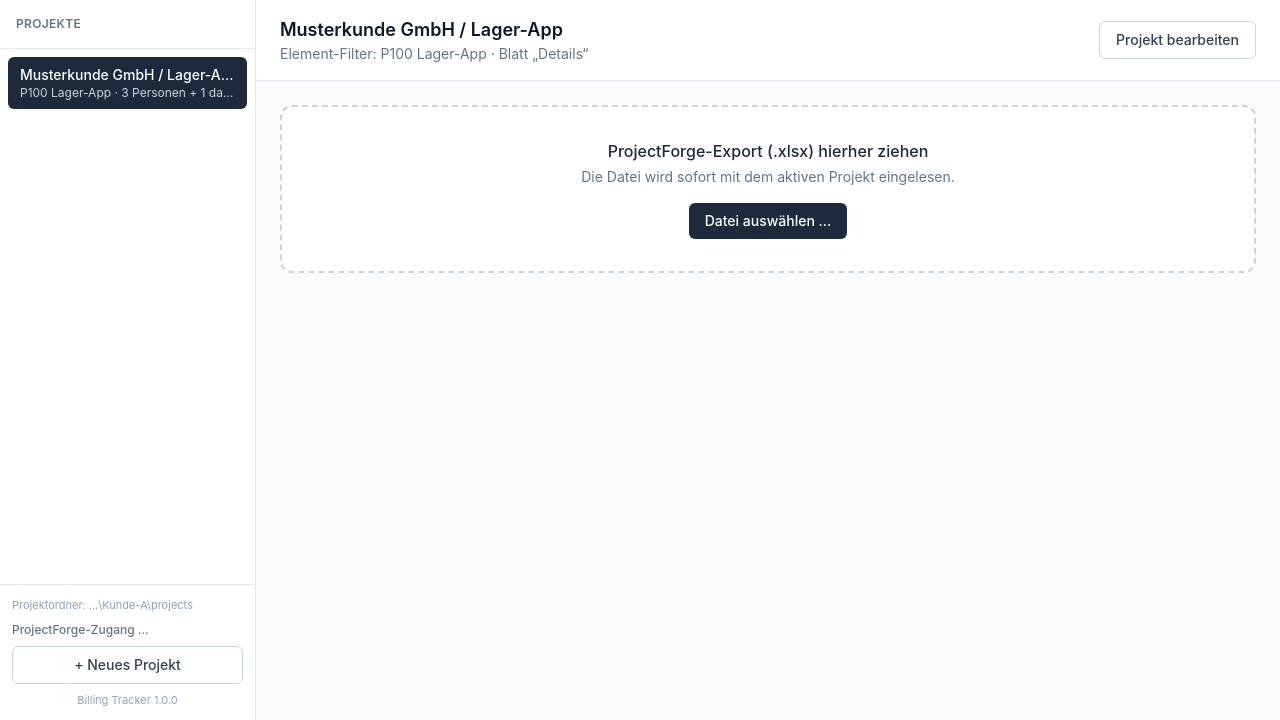
Test: App (Integration mit nachgebildetem Backend) › legt ein neues Projekt an, wechselt dorthin und löscht es wieder
This screenshot has width=1280, height=720.
Check: the heading "Musterkunde GmbH / Lager-App" is shown, box left=280, top=16, right=588, bottom=44
Click the button "+ Neues Projekt": (128, 664) left=12, top=646, right=243, bottom=684
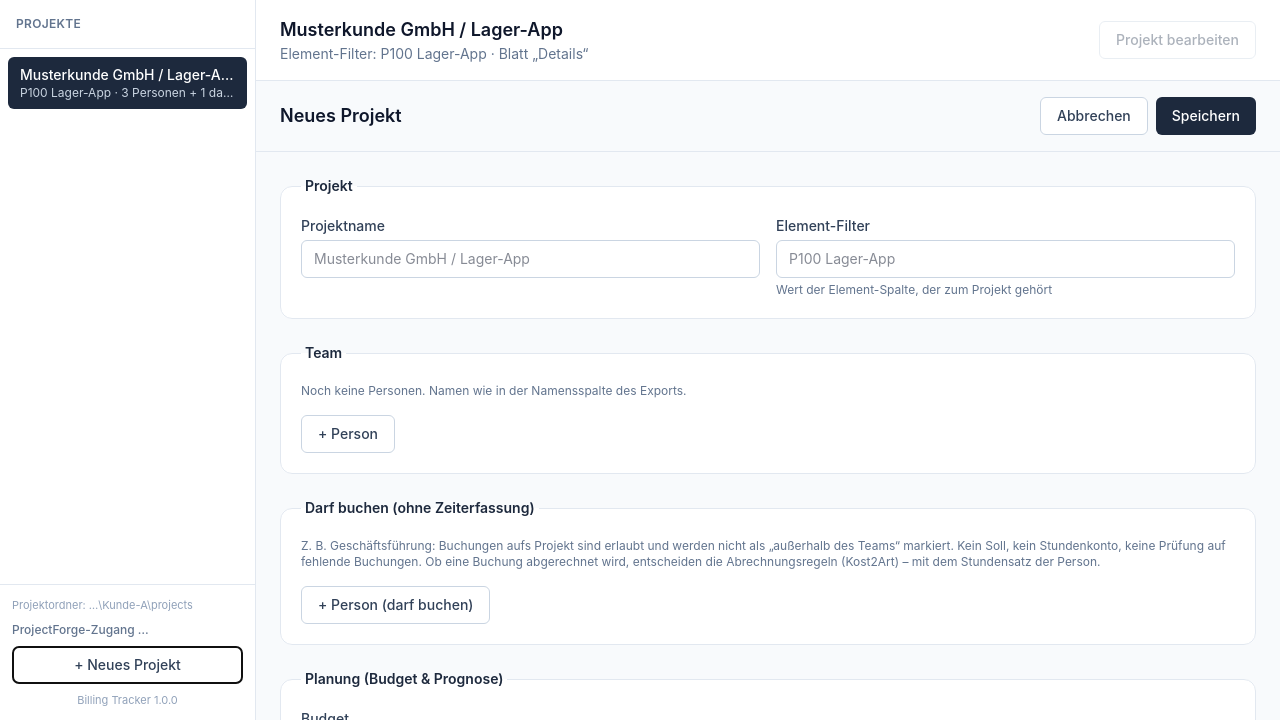
In the field with placeholder "Musterkunde GmbH / Lager-App": (530, 259) left=301, top=240, right=760, bottom=278, type "Zweites Projekt"
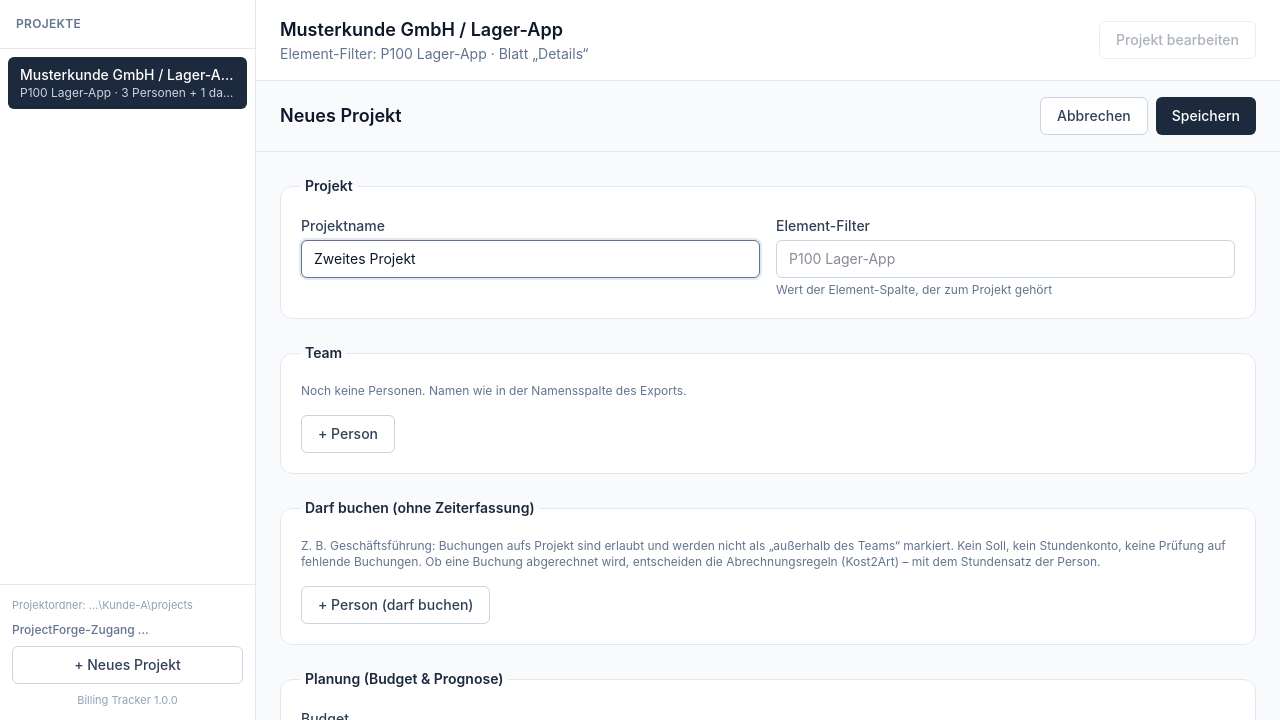
Click the button "Speichern": (1206, 116) left=1156, top=97, right=1256, bottom=135
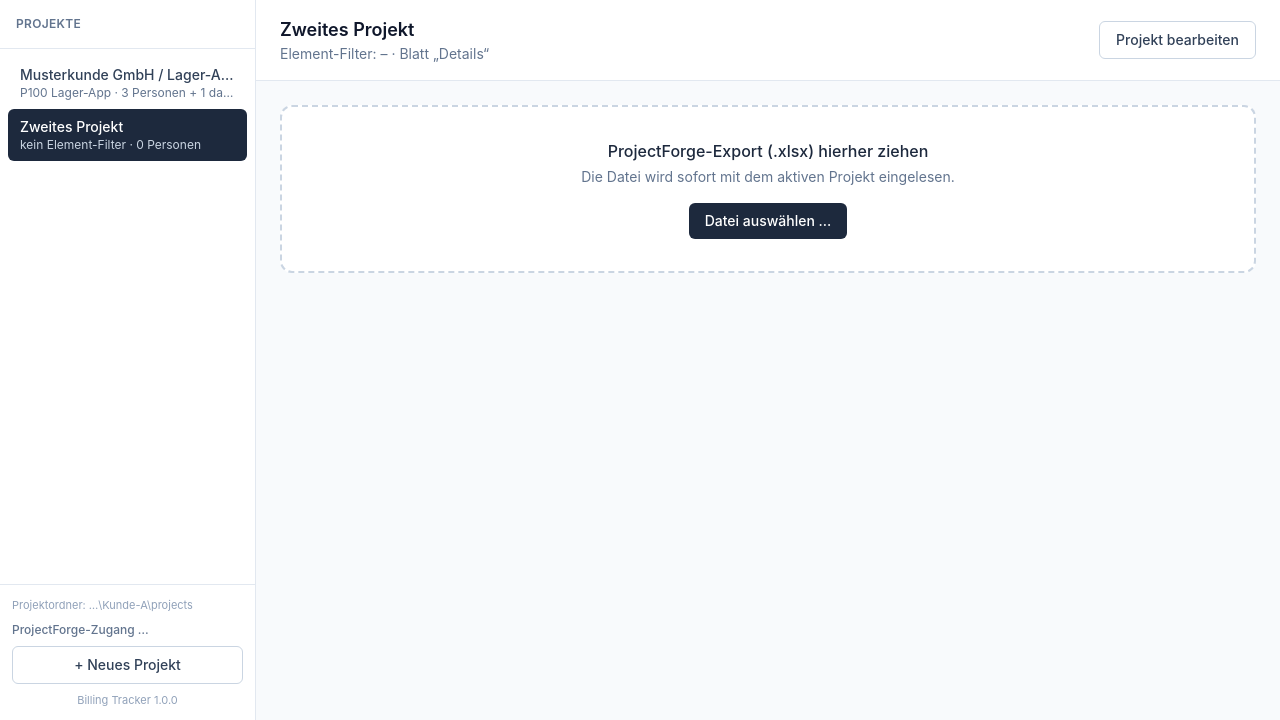
Check: the heading "Zweites Projekt" is shown, box left=280, top=19, right=414, bottom=40
Click the button "Projekt bearbeiten": (1178, 40) left=1099, top=21, right=1256, bottom=59
(page scrolled)
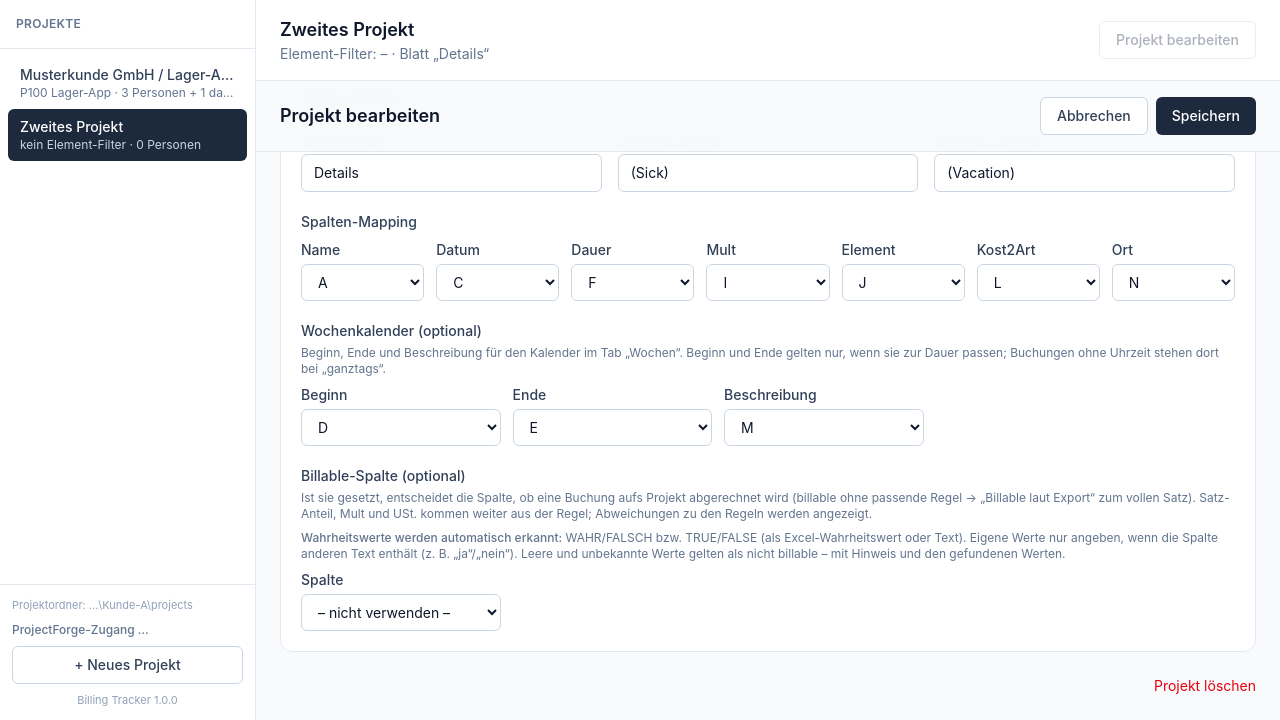
Click the button "Projekt löschen": (1205, 686) left=1154, top=676, right=1256, bottom=696
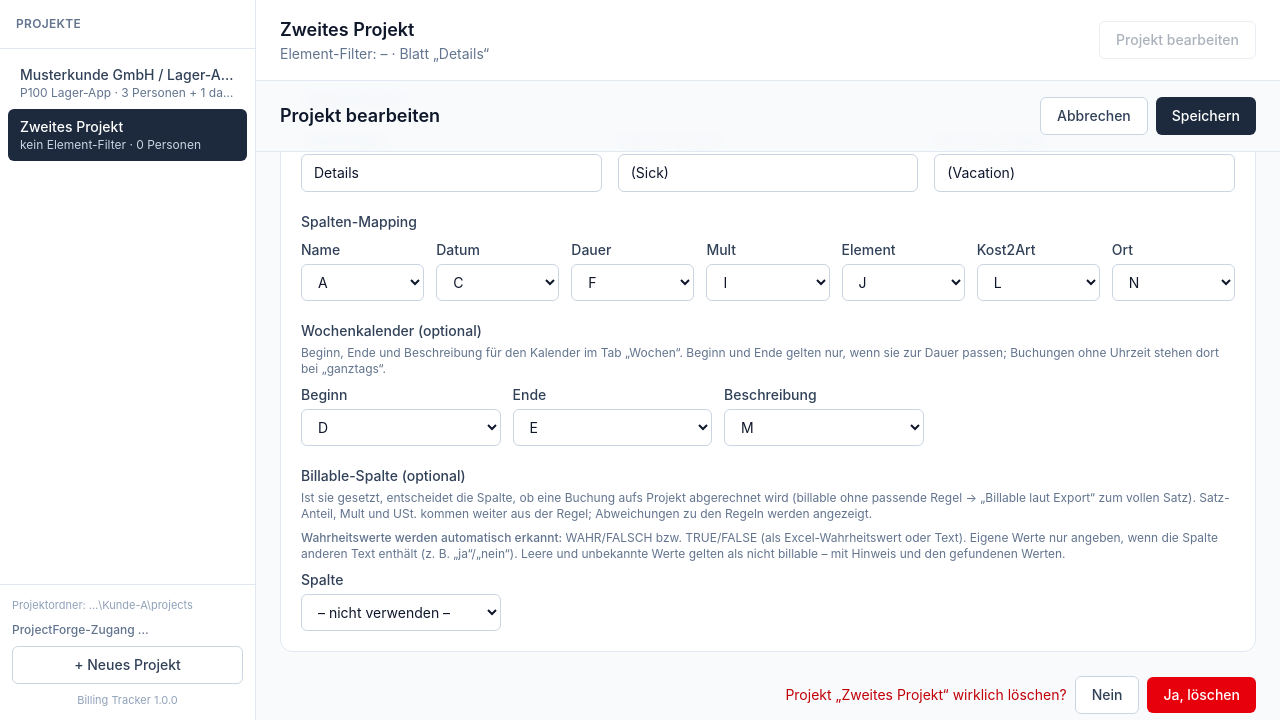
Click the button "Ja, löschen": (1202, 695) left=1148, top=677, right=1256, bottom=713
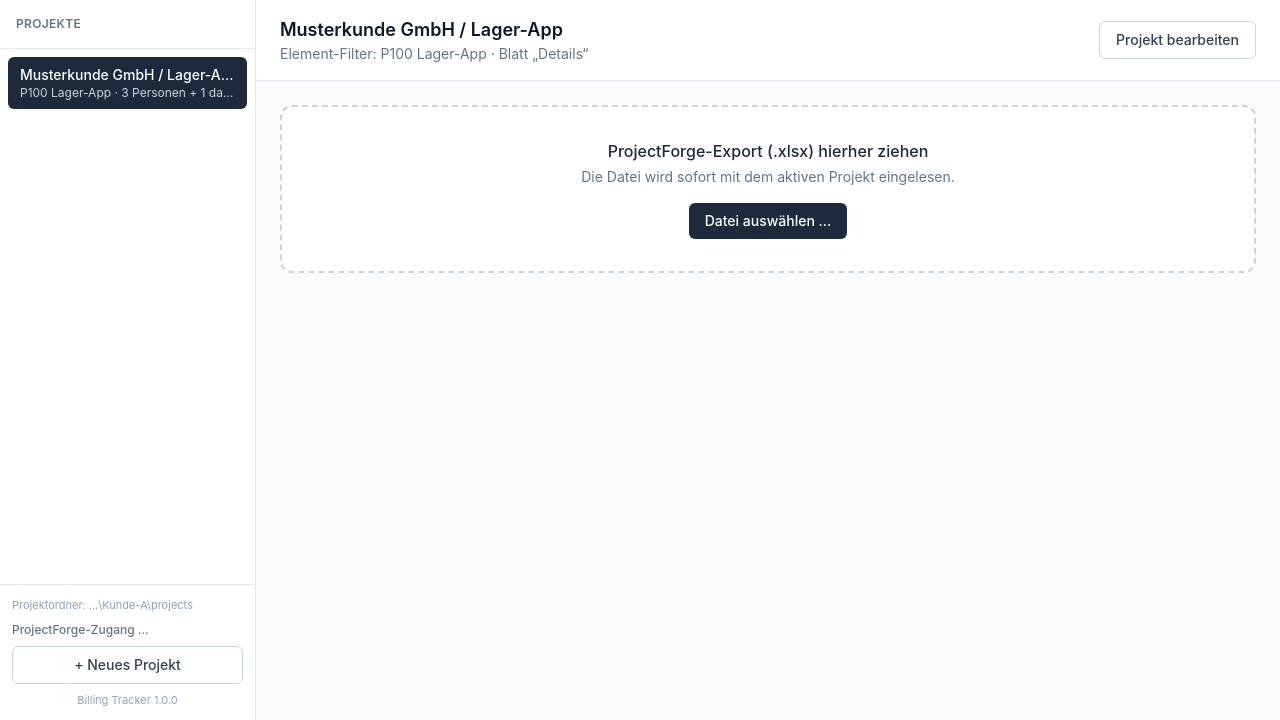
Check: the heading "Musterkunde GmbH / Lager-App" is shown, box left=280, top=16, right=588, bottom=44
